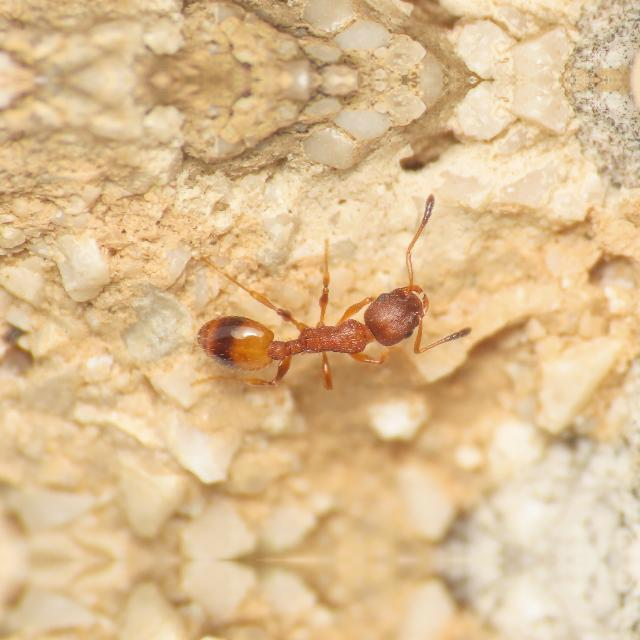Temnothorax: (169, 245, 471, 400)
